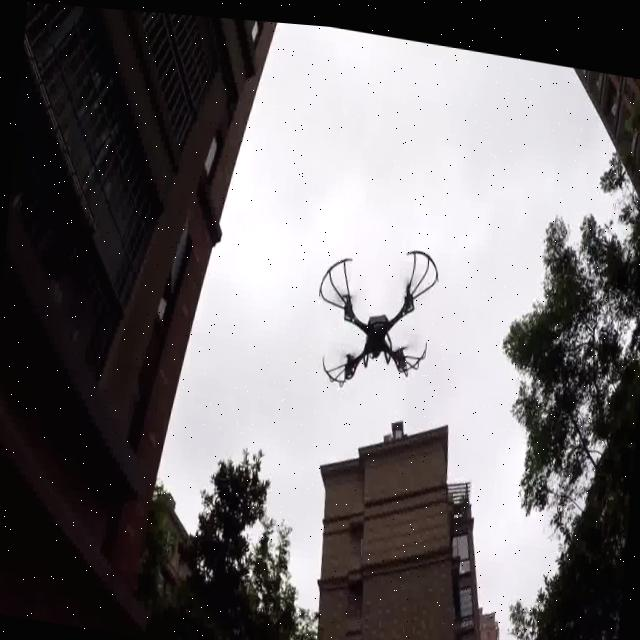drone: (306, 215, 442, 410)
